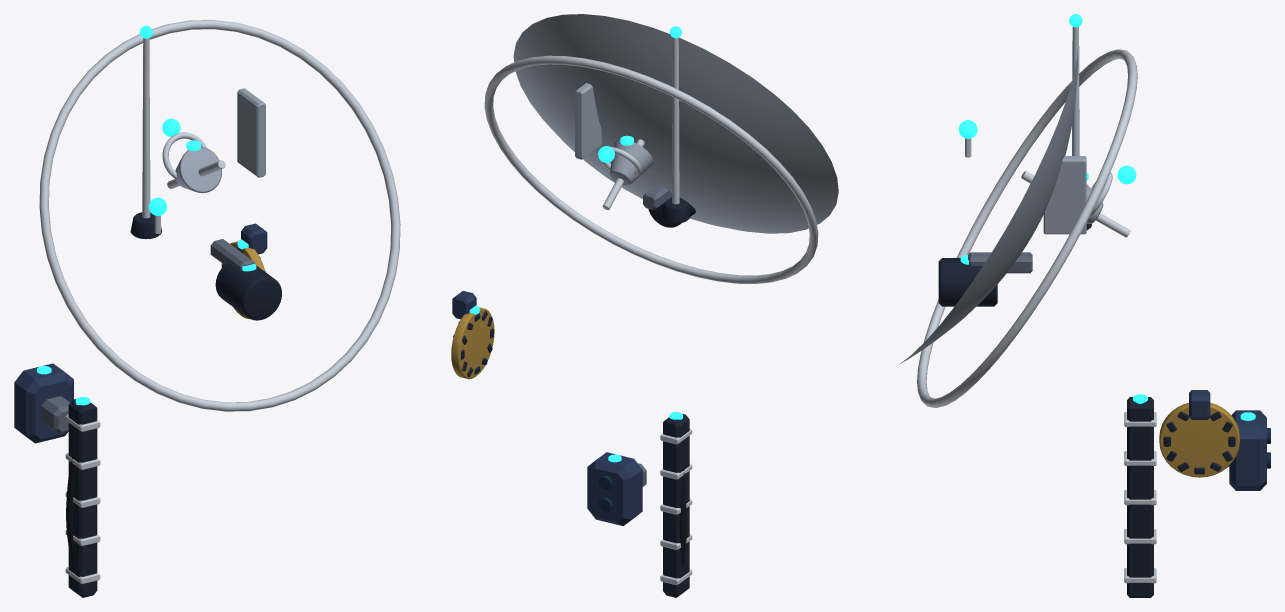
File: tower_skywatch_range_s9.glb
The picture shows the model from 3 angles, left to right: view 1: azimuth 30°, elevation 25°; view 2: azimuth 150°, elevation 25°; view 3: azimuth 270°, elevation 25°; orthographic projection. The views are drawn at different scales.
Parts seen in each view (by area): view 1: skywatch_wide_rim, skywatch_cable_ladder, skywatch_sensor_cluster, skywatch_dish_counterweight, skywatch_iff_blade, skywatch_feed_horn, skywatch_whip, skywatch_sensor_mount, skywatch_dish_cw_arm, skywatch_ladder_loom, skywatch_encoder_head, skywatch_whip_base; view 2: skywatch_wide_dish, skywatch_wide_rim, skywatch_cable_ladder, skywatch_sensor_cluster, skywatch_encoder_disc, skywatch_iff_blade, skywatch_whip, skywatch_feed_horn, skywatch_whip_base, skywatch_ladder_loom, skywatch_encoder_head; view 3: skywatch_wide_rim, skywatch_wide_dish, skywatch_cable_ladder, skywatch_encoder_disc, skywatch_iff_blade, skywatch_sensor_cluster, skywatch_dish_counterweight, skywatch_whip, skywatch_dish_cw_arm, skywatch_encoder_head.
Boxes of the visible parts, x1,y1,x2,y2 form: skywatch_wide_rim: [39, 20, 400, 411]; skywatch_cable_ladder: [68, 399, 97, 597]; skywatch_sensor_cluster: [14, 363, 73, 443]; skywatch_dish_counterweight: [215, 262, 281, 320]; skywatch_iff_blade: [237, 88, 265, 177]; skywatch_feed_horn: [175, 147, 221, 193]; skywatch_whip: [142, 38, 150, 218]; skywatch_sensor_mount: [41, 396, 69, 433]; skywatch_dish_cw_arm: [210, 239, 255, 270]; skywatch_ladder_loom: [66, 454, 73, 563]; skywatch_encoder_head: [241, 223, 267, 254]; skywatch_whip_base: [130, 212, 161, 239]; skywatch_wide_dish: [513, 14, 838, 233]; skywatch_wide_rim: [484, 55, 818, 283]; skywatch_cable_ladder: [663, 414, 689, 597]; skywatch_sensor_cluster: [587, 452, 642, 525]; skywatch_encoder_disc: [451, 307, 494, 379]; skywatch_iff_blade: [575, 83, 601, 159]; skywatch_whip: [672, 37, 679, 204]; skywatch_feed_horn: [609, 140, 653, 185]; skywatch_whip_base: [661, 198, 690, 223]; skywatch_ladder_loom: [679, 466, 686, 566]; skywatch_encoder_head: [452, 291, 476, 319]; skywatch_wide_rim: [917, 49, 1137, 407]; skywatch_wide_dish: [899, 48, 1077, 364]; skywatch_cable_ladder: [1127, 397, 1153, 597]; skywatch_encoder_disc: [1159, 402, 1239, 477]; skywatch_iff_blade: [1043, 156, 1086, 234]; skywatch_sensor_cluster: [1229, 410, 1266, 490]; skywatch_dish_counterweight: [938, 258, 997, 306]; skywatch_whip: [1072, 27, 1079, 155]; skywatch_dish_cw_arm: [968, 252, 1032, 273]; skywatch_encoder_head: [1189, 390, 1210, 419].
Bounding box in the file's own units: 1.52 × 2.45 × 1.5.
